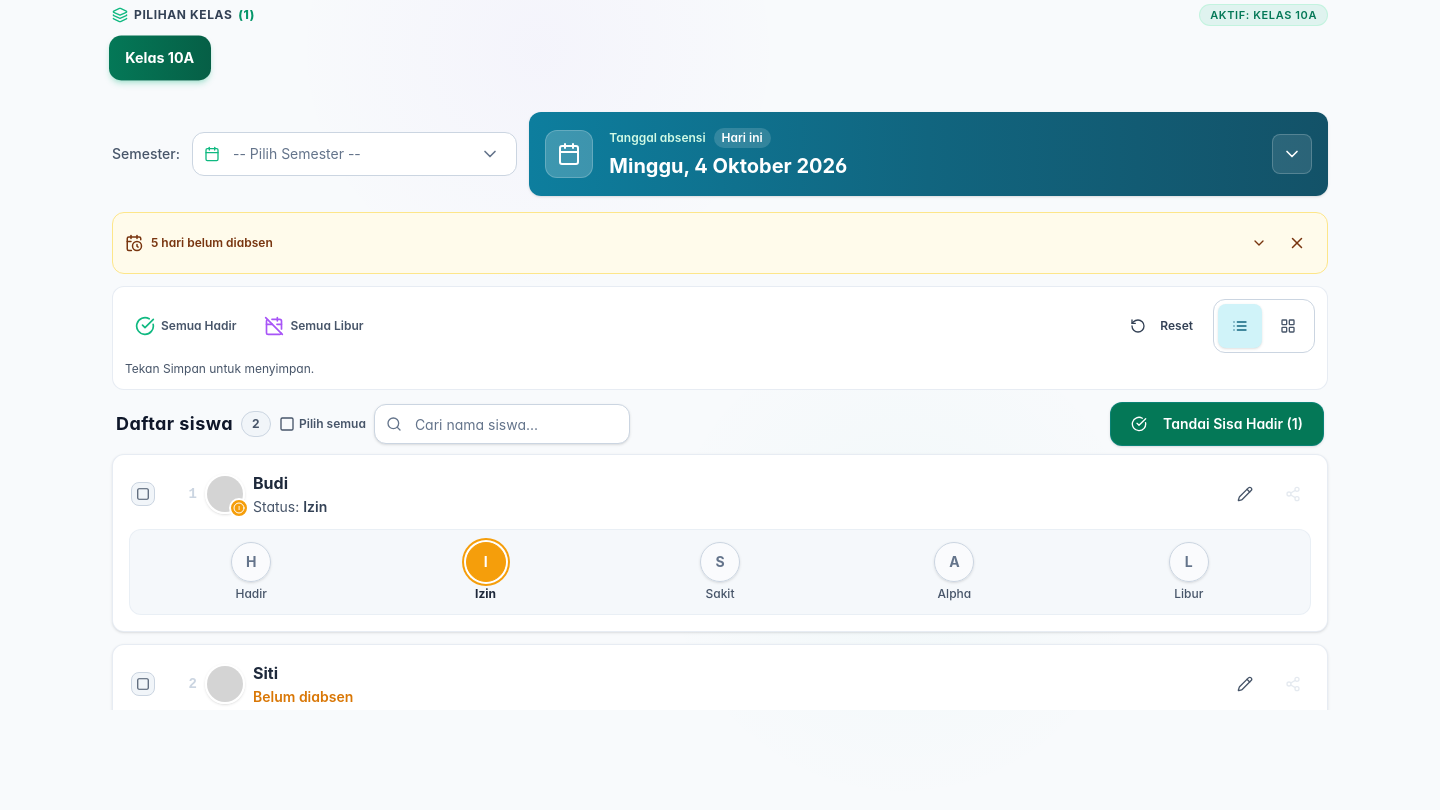
AttendancePage Integration › does not save "mark rest present" on a Sunday
The width and height of the screenshot is (1440, 810).
Check: the heading "Siti" is shown, box x1=253 y1=663 x2=278 y2=683
Click the button "Tandai Sisa Hadir (1)" at (1217, 424), box x1=1110 y1=402 x2=1324 y2=446
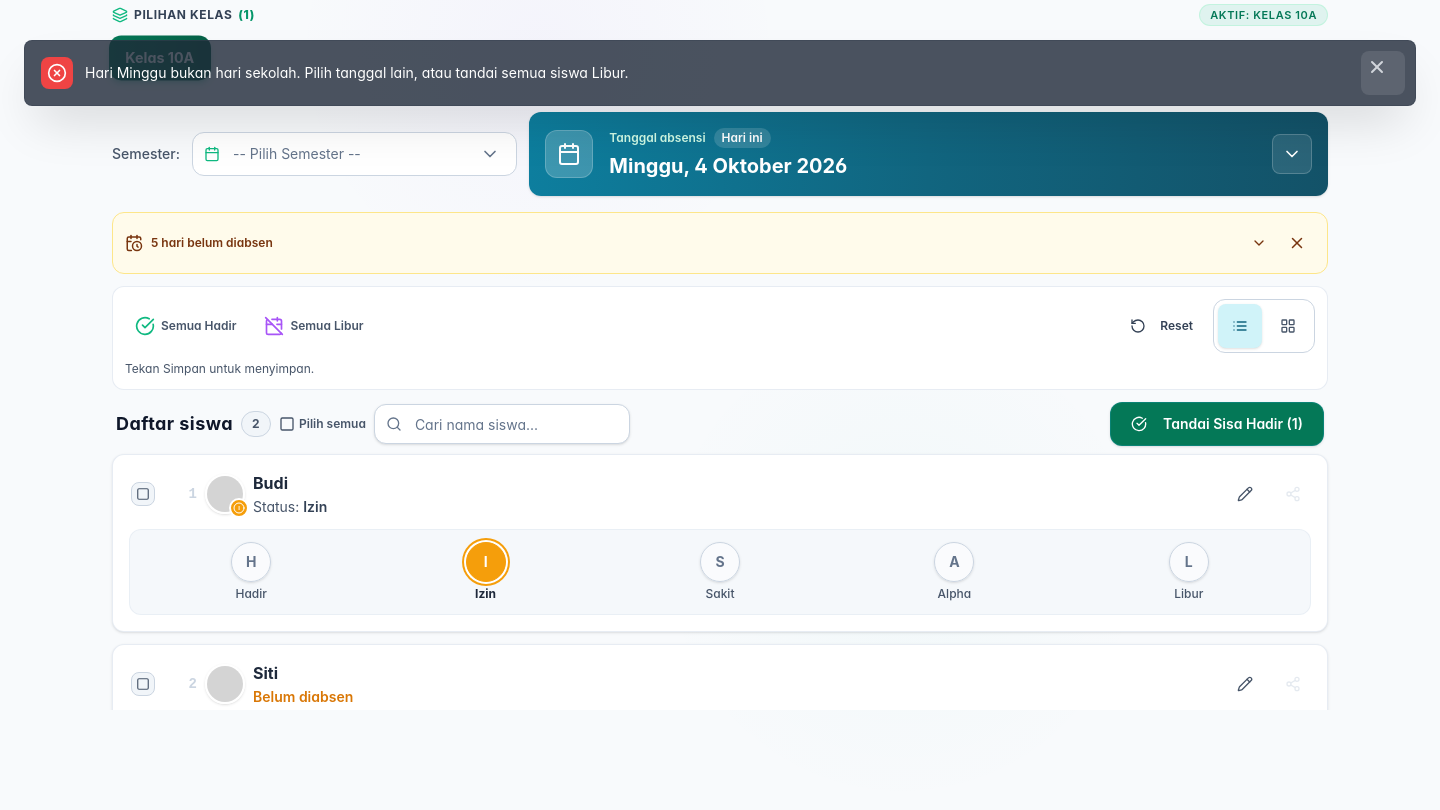
Check: the text "Hari Minggu bukan hari sekolah" is shown, box x1=85 y1=64 x2=628 y2=81
